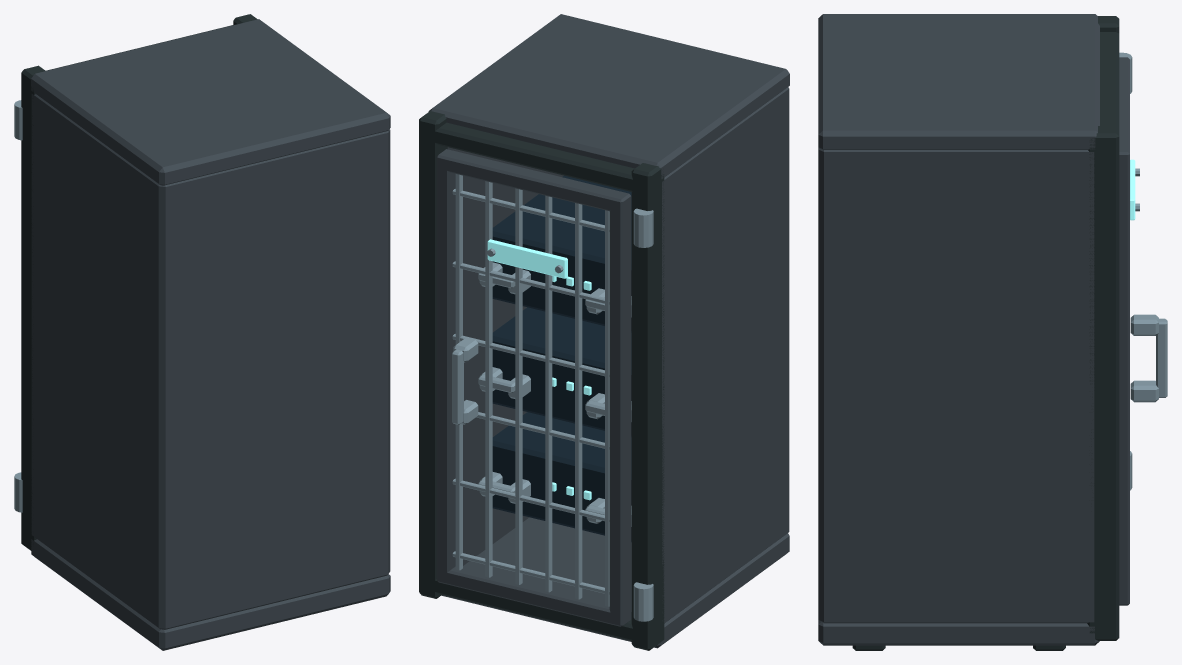
The model's file is server_service_cabinet.glb.
3 views of the same model, side by side, from view 1: azimuth 30°, elevation 25°; view 2: azimuth 150°, elevation 25°; view 3: azimuth 270°, elevation 25° (orthographic). The views are drawn at different scales.
Visible parts, largest first — view 1: body_back_wall, body_side_wall (×2), body_roof, body_floor, front_side_frame; view 2: body_side_wall (×2), body_roof, front_side_frame (×2), server_module (×3), moving_door_grille (×12), moving_door_upright (×2), body_floor, front_cross_frame (×2), moving_door_rail (×2), body_back_wall, moving_service_id_plate, hinge_pin (×2) (+1 smaller); view 3: body_side_wall, body_roof, front_side_frame, body_floor, moving_door_upright, body_back_wall, front_cross_frame, moving_handle_mount (×2), moving_door_rail, moving_handle_grip.
Part boxes in pixels (left/top/right/bottom): body_back_wall: left=151, top=131, right=388, bottom=627; body_side_wall (×2): left=31, top=94, right=390, bottom=629; body_roof: left=31, top=19, right=390, bottom=185; body_floor: left=31, top=539, right=390, bottom=650; front_side_frame: left=21, top=65, right=45, bottom=550; body_side_wall (×2): left=447, top=87, right=789, bottom=623; body_roof: left=428, top=14, right=789, bottom=178; front_side_frame (×2): left=419, top=110, right=664, bottom=650; server_module (×3): left=492, top=175, right=631, bottom=541; moving_door_grille (×12): left=452, top=174, right=609, bottom=606; moving_door_upright (×2): left=436, top=149, right=631, bottom=626; body_floor: left=441, top=517, right=789, bottom=648; front_cross_frame (×2): left=419, top=122, right=664, bottom=643; moving_door_rail (×2): left=436, top=149, right=631, bottom=625; body_back_wall: left=780, top=87, right=789, bottom=537; moving_service_id_plate: left=487, top=239, right=567, bottom=278; hinge_pin (×2): left=633, top=208, right=653, bottom=621; body_side_wall: left=818, top=148, right=1094, bottom=623; body_roof: left=818, top=14, right=1099, bottom=149; front_side_frame: left=1088, top=126, right=1119, bottom=640; body_floor: left=818, top=620, right=1099, bottom=645; moving_door_upright: left=1119, top=147, right=1129, bottom=605; body_back_wall: left=818, top=147, right=840, bottom=623; front_cross_frame: left=1089, top=32, right=1119, bottom=156; moving_handle_mount (×2): left=1130, top=314, right=1158, bottom=402; moving_door_rail: left=1119, top=57, right=1129, bottom=166; moving_handle_grip: left=1156, top=318, right=1167, bottom=397.
Size of the model in its own units: 0.872 by 1.77 by 1.05.
